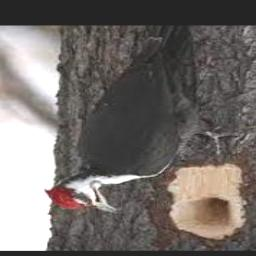Woodpecker: (45, 26, 237, 214)
